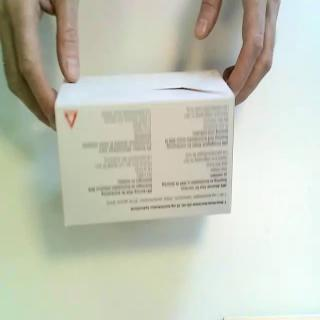levopidon25mg: (53, 69, 237, 229)
